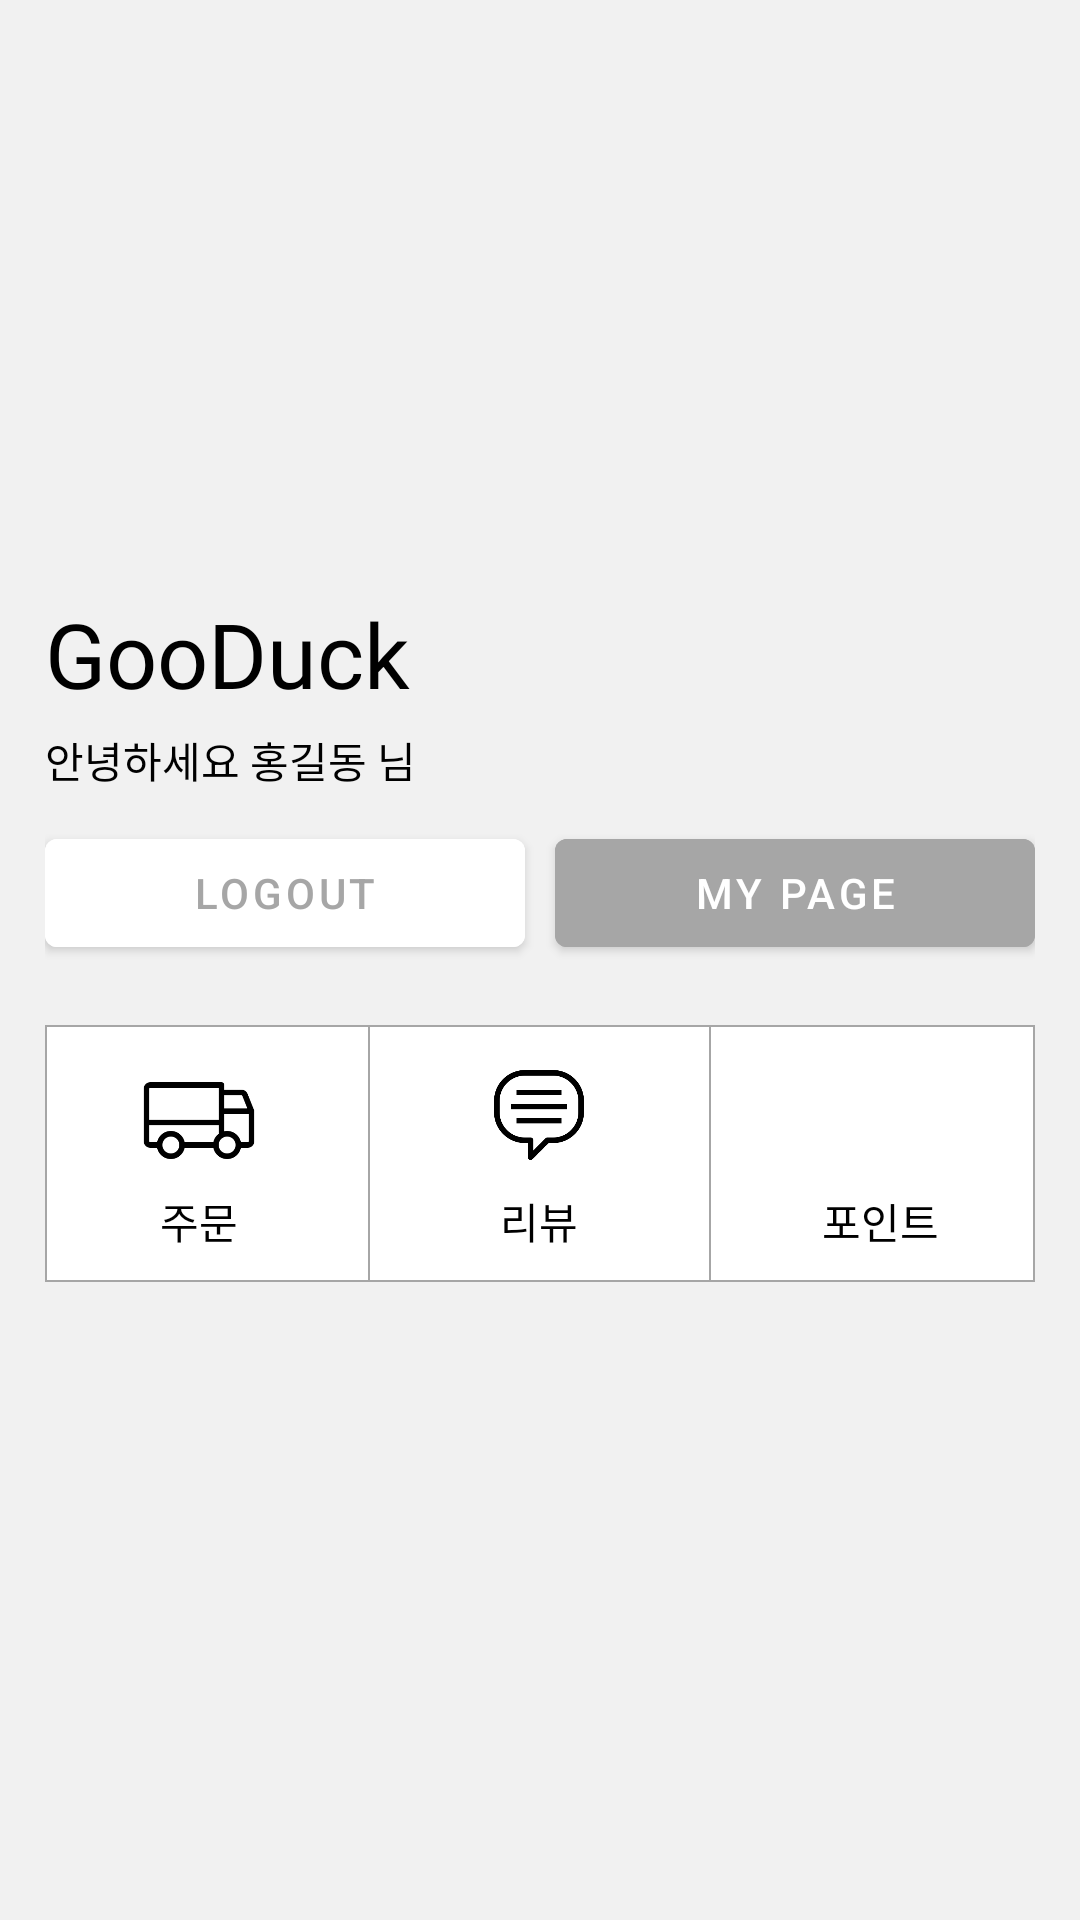

Icon click points for this 1080px×1920px phone screenshot, format (x,y):
truck: (199,1120)
